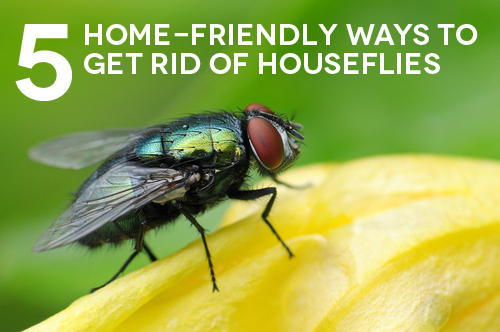fly: (26, 103, 310, 298)
